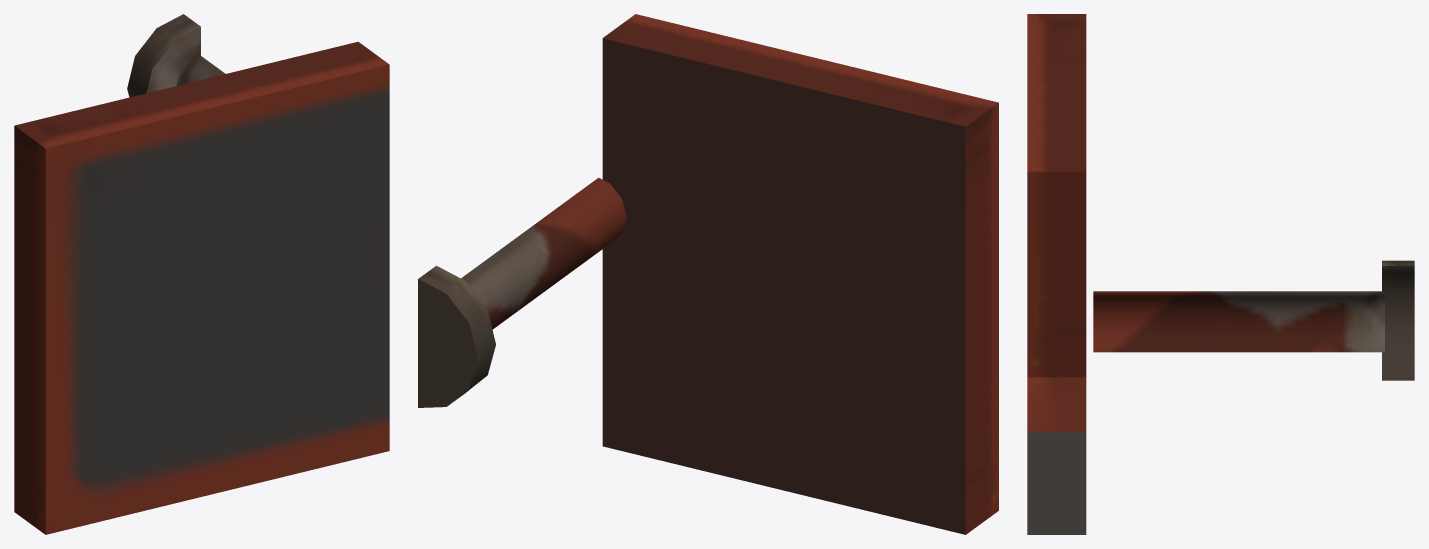
Rendered from section-2.obj.
3 views of the same model, side by side, from view 1: azimuth 30°, elevation 25°; view 2: azimuth 150°, elevation 25°; view 3: azimuth 270°, elevation 25° (orthographic). The views are drawn at different scales.
Bounding box in the file's own units: 0.891 × 0.9564 × 0.9241.
Materials: 1 (1 with a texture image).
